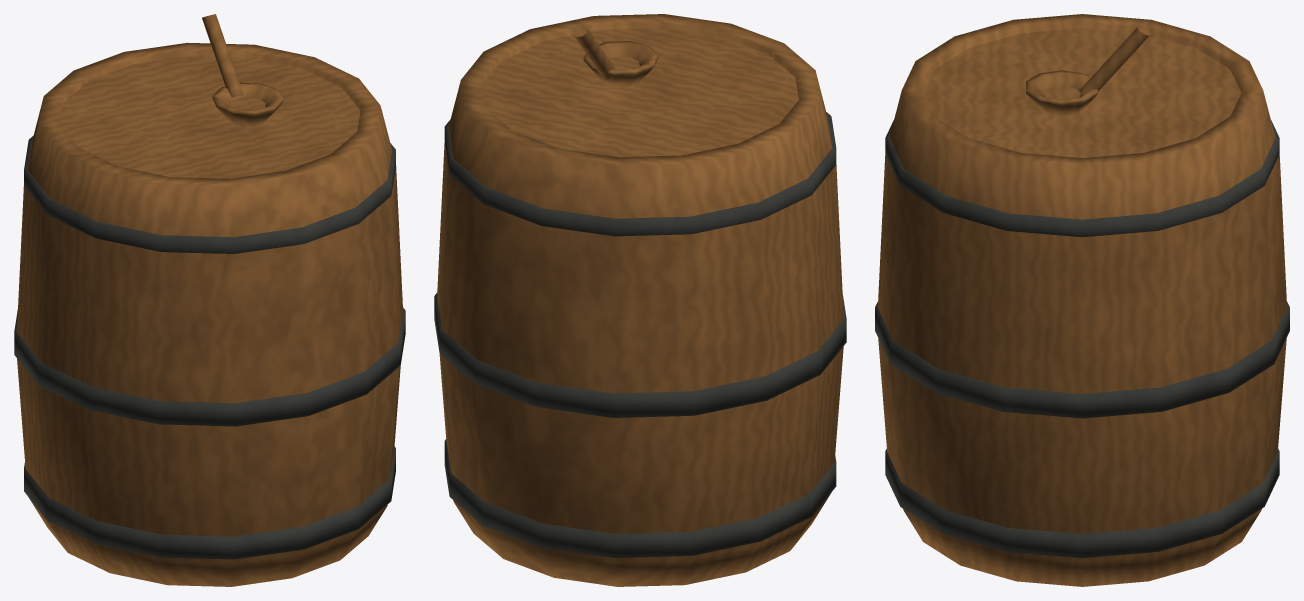
The model's file is Furn_BarrelWater.fbx.
3 views of the same model, side by side, from view 1: azimuth 30°, elevation 25°; view 2: azimuth 150°, elevation 25°; view 3: azimuth 270°, elevation 25° (orthographic). The views are drawn at different scales.
Parts seen in each view (by area): view 1: Furn_BarrelWater_Mesh; view 2: Furn_BarrelWater_Mesh; view 3: Furn_BarrelWater_Mesh.
Boxes of the visible parts, <box> form: Furn_BarrelWater_Mesh: <box>14,14,405,586</box>; Furn_BarrelWater_Mesh: <box>434,14,846,586</box>; Furn_BarrelWater_Mesh: <box>875,14,1289,586</box>.
Size of the model in its own units: 0.6 by 0.8 by 0.6.
